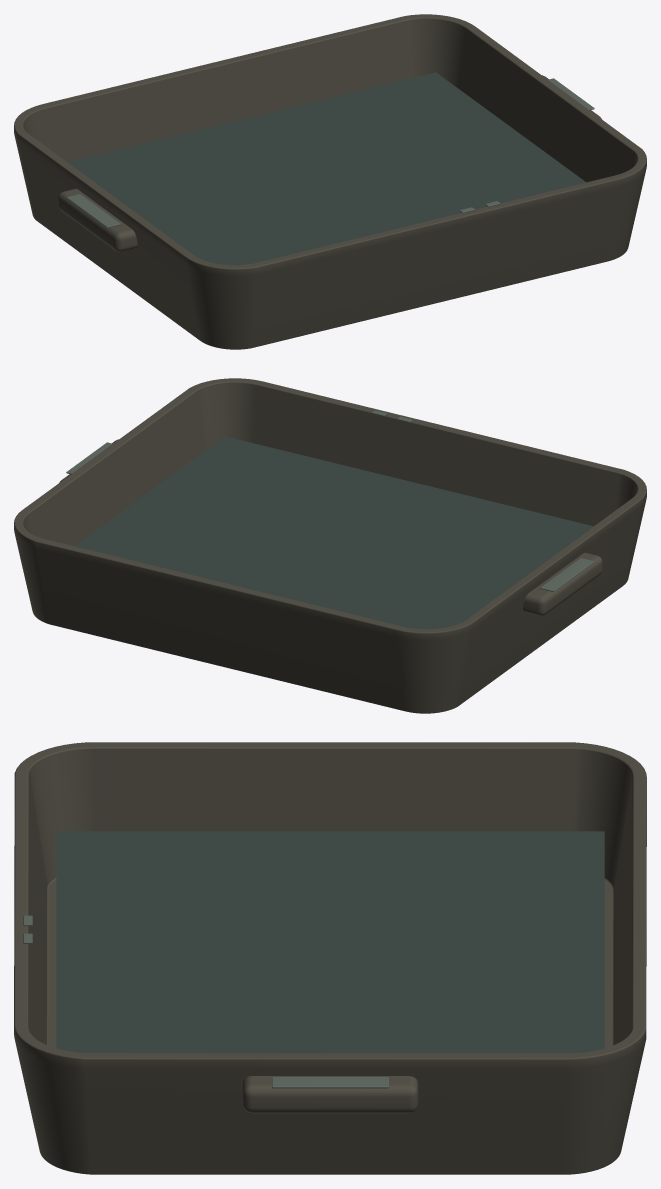
Rendered from C10_StopTray.fbx.
3 renders of one model, top to bottom at view 1: azimuth 30°, elevation 25°; view 2: azimuth 150°, elevation 25°; view 3: azimuth 270°, elevation 25°, orthographic. The views are drawn at different scales.
Visible parts, largest first — view 1: Body_Mesh, LiquidMesh; view 2: Body_Mesh, LiquidMesh; view 3: Body_Mesh, LiquidMesh.
Boxes of the visible parts, x1=… form: Body_Mesh: x1=14, y1=14, x2=646, y2=349; LiquidMesh: x1=67, y1=72, x2=586, y2=265; Body_Mesh: x1=14, y1=378, x2=646, y2=713; LiquidMesh: x1=75, y1=436, x2=593, y2=629; Body_Mesh: x1=14, y1=742, x2=646, y2=1174; LiquidMesh: x1=56, y1=831, x2=604, y2=1053.
Size of the model in its own units: 0.344 by 0.061 by 0.27.
